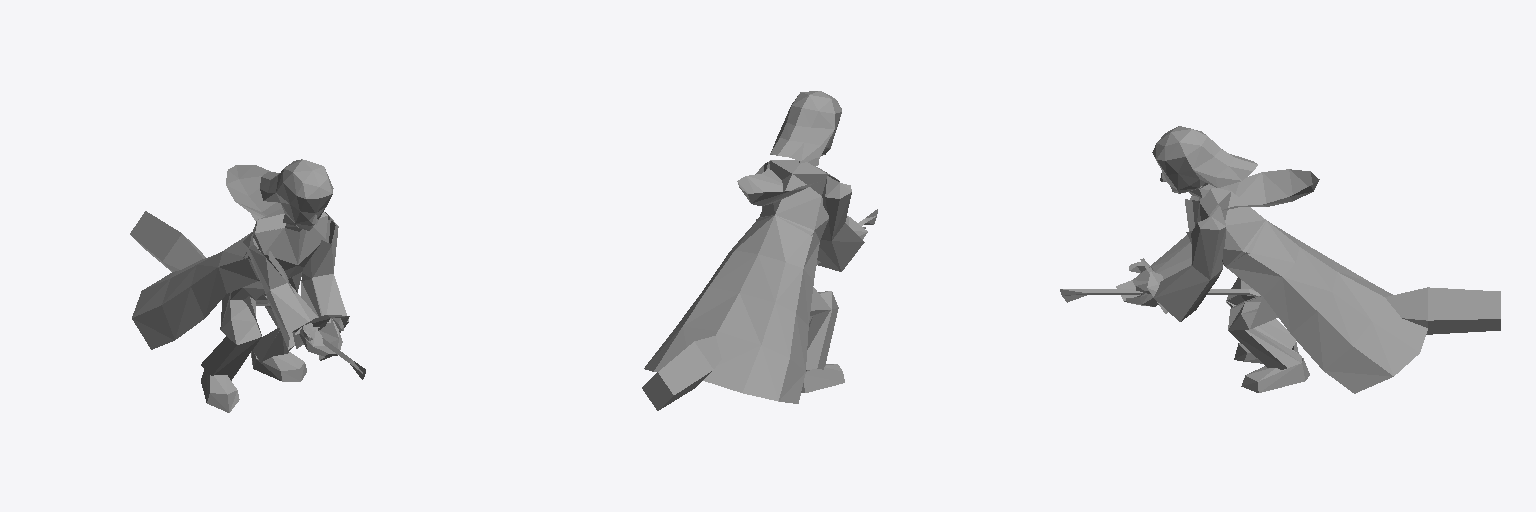
File: positioned_player.obj
3 views of the same model, side by side, from view 1: azimuth 30°, elevation 25°; view 2: azimuth 150°, elevation 25°; view 3: azimuth 270°, elevation 25° (orthographic).
Parts seen in each view (by area): view 1: N.P.C_Female_Student_Gryffindor_Quidditch_Player; view 2: N.P.C_Female_Student_Gryffindor_Quidditch_Player; view 3: N.P.C_Female_Student_Gryffindor_Quidditch_Player.
Boxes of the visible parts, x1=… form: N.P.C_Female_Student_Gryffindor_Quidditch_Player: x1=130, y1=159, x2=365, y2=412; N.P.C_Female_Student_Gryffindor_Quidditch_Player: x1=642, y1=91, x2=877, y2=410; N.P.C_Female_Student_Gryffindor_Quidditch_Player: x1=1060, y1=126, x2=1500, y2=393.
Bounding box in the file's own units: 0.3304 × 0.5991 × 0.9335.